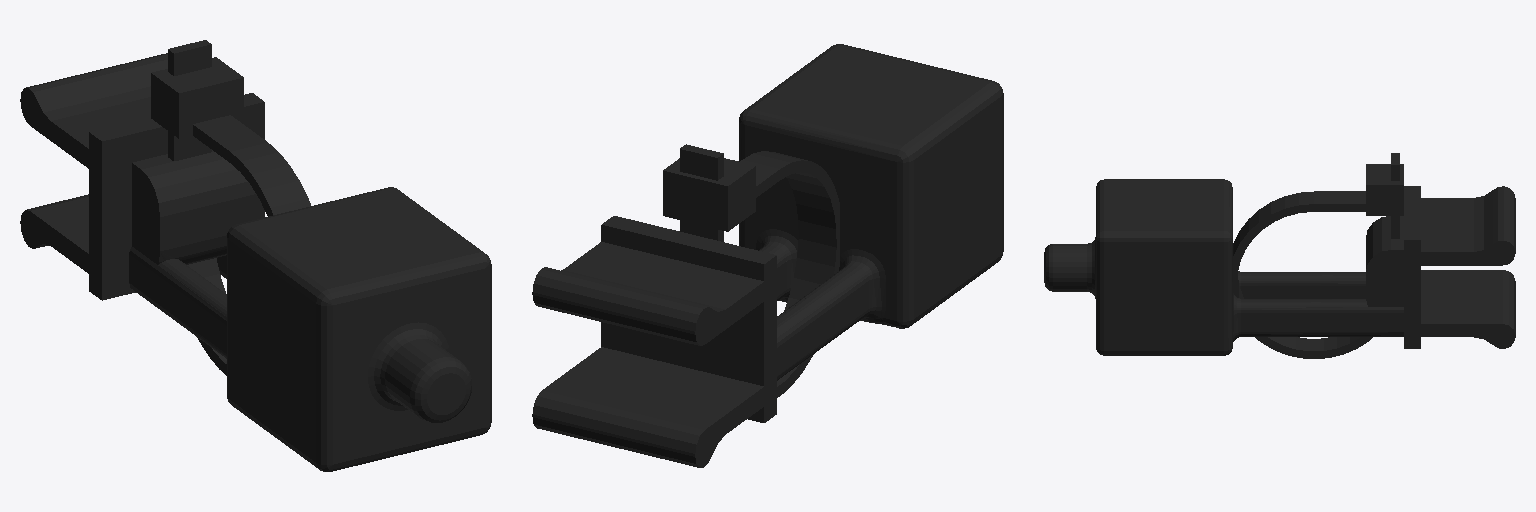
The robot description file, URDF, robot "Clip3_modified":
<?xml version="1.0" encoding="utf-8"?>
<!-- This URDF was automatically created by SolidWorks to URDF Exporter! Originally created by [author] ([email redacted]) 
     Commit Version: 1.5.1-0-g916b5db  Build Version: 1.5.7152.31018
     For more information, please see http://wiki.ros.org/sw_urdf_exporter -->
<robot
  name="Clip3_modified">
  <link
    name="Clip3_modified">
    <inertial>
      <origin
        xyz="-5.2132E-07 -0.01892 -0.000122309999999999"
        rpy="0 0 0" />
      <mass
        value="0.0063855" />
      <inertia
        ixx="1.4942E-06"
        ixy="-6.6352E-11"
        ixz="3.40929999999996E-13"
        iyy="2.6005E-07"
        iyz="5.21720000000007E-09"
        izz="1.4649E-06" />
    </inertial>
    <visual>
      <origin
        xyz="0 0 0"
        rpy="1.5707963267949 0 0" />
      <geometry>
        <mesh
          filename="package://Clip3_modified/meshes/Clips_3_modified.SLDPRT.STL" />
      </geometry>
      <material
        name="">
        <color
          rgba="0.2 0.2 0.2 1" />
        <texture
          filename="package://Clip3_modified/textures/" />
      </material>
    </visual>
    <collision>
      <origin
        xyz="0 0 0"
        rpy="1.5707963267949 0 0" />
      <geometry>
        <mesh
          filename="package://Clip3_modified/meshes/Clips_3_modified.SLDPRT.STL" />
      </geometry>
    </collision>
  </link>
</robot>

--- What the picture shows (computed from the rendered views, not written in the file) ---
3 views of the same robot in one strip: view 1: azimuth 30°, elevation 25°; view 2: azimuth 150°, elevation 25°; view 3: azimuth 270°, elevation 25° (orthographic).
Robot: Clip3_modified — 1 links, 0 joints (none); root link Clip3_modified; default pose: all joints at 0.
Links seen in each view (by area): view 1: Clip3_modified; view 2: Clip3_modified; view 3: Clip3_modified.
Boxes of the visible links, box(x1,y1,x2,y2) form: Clip3_modified: box(20, 40, 491, 471); Clip3_modified: box(532, 44, 1003, 467); Clip3_modified: box(1044, 153, 1515, 358).
Size in the robot's own frame: 0.016 by 0.055 by 0.025 metres.
Meshes: 1 distinct files referenced, 1 mesh visuals loaded (1 binary STL).